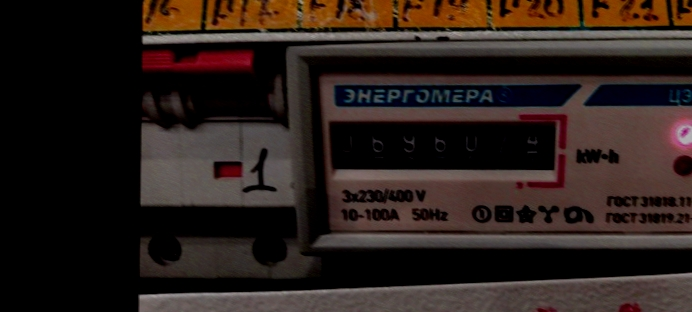0: (337, 131, 355, 156), (463, 129, 479, 156)
4: (525, 129, 539, 151)
5: (525, 151, 539, 171)
6: (368, 130, 386, 155), (432, 129, 448, 156)
7: (494, 131, 510, 157)
9: (400, 131, 417, 157)
screen: (323, 111, 570, 191)
